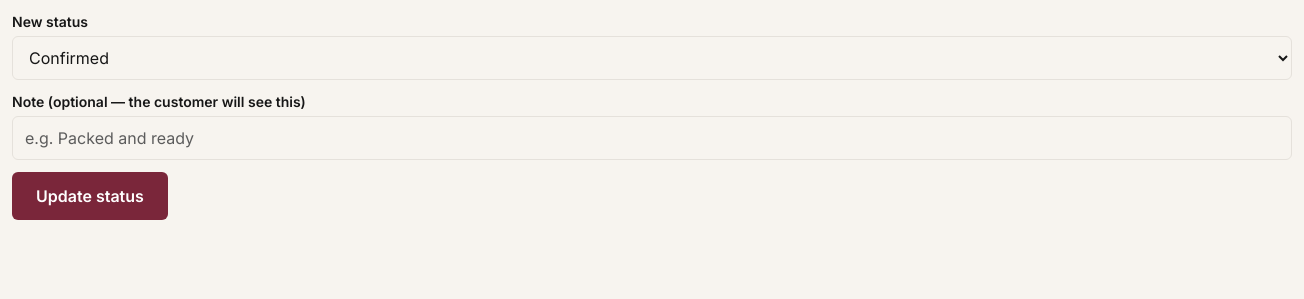
Test: cancel still requires a reason › blocks Cancel with an empty note and does not call the API
Select "Cancelled" in the dropdown labelled "New status" at (652, 58), box [12, 36, 1292, 80]
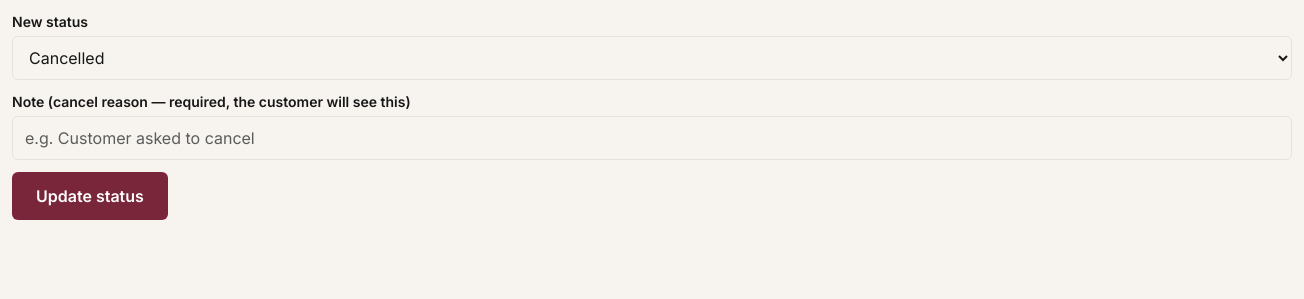
Click the button "Update status".
click(90, 196)  # box [12, 172, 168, 220]
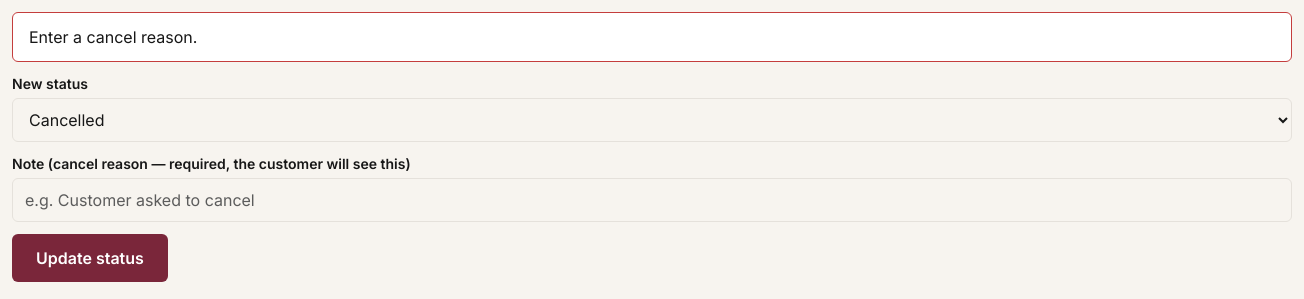
Check: the text "Enter a cancel reason." is shown, box [12, 12, 1292, 62]
